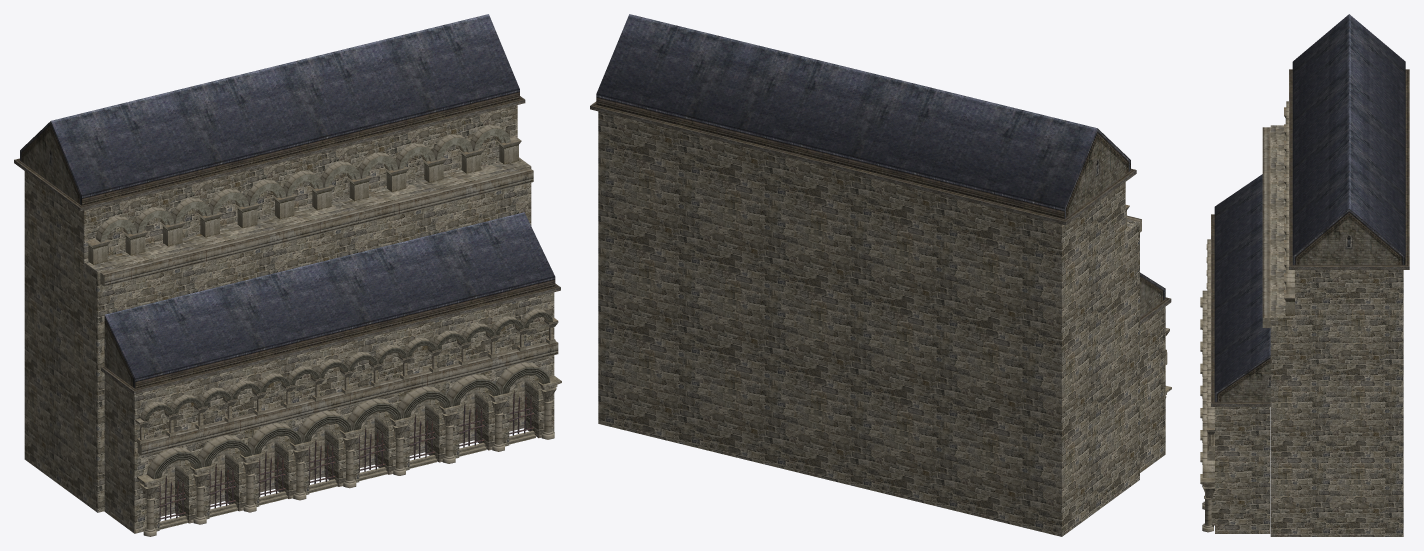
File: SM_EN_2005_jianzhu03.FBX
3 renders of one model, left to right at view 1: azimuth 30°, elevation 25°; view 2: azimuth 150°, elevation 25°; view 3: azimuth 270°, elevation 25°, orthographic. The views are drawn at different scales.
Parts seen in each view (by area): view 1: SM_EN_2005_jianzhu0302, SM_EN_2005_jianzhu0301; view 2: SM_EN_2005_jianzhu0301, SM_EN_2005_jianzhu0302; view 3: SM_EN_2005_jianzhu0302, SM_EN_2005_jianzhu0301.
Boxes of the visible parts, box(x1,y1,x2,y2) form: SM_EN_2005_jianzhu0302: box(14, 14, 561, 536); SM_EN_2005_jianzhu0301: box(24, 105, 554, 533); SM_EN_2005_jianzhu0301: box(598, 111, 1165, 536); SM_EN_2005_jianzhu0302: box(590, 14, 1171, 397); SM_EN_2005_jianzhu0302: box(1200, 14, 1409, 532); SM_EN_2005_jianzhu0301: box(1211, 125, 1403, 536).
Size of the model in its own units: 1159 by 900 by 519.
